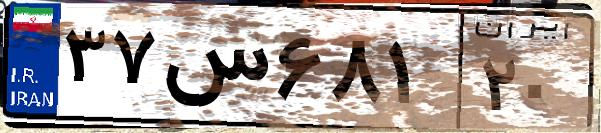0: (525, 38, 570, 115)
1: (385, 28, 445, 110)
2: (475, 38, 525, 113)
3: (57, 26, 110, 100)
6: (270, 28, 330, 110)
7: (110, 28, 158, 98)
8: (330, 28, 385, 110)
س: (158, 20, 270, 120)
